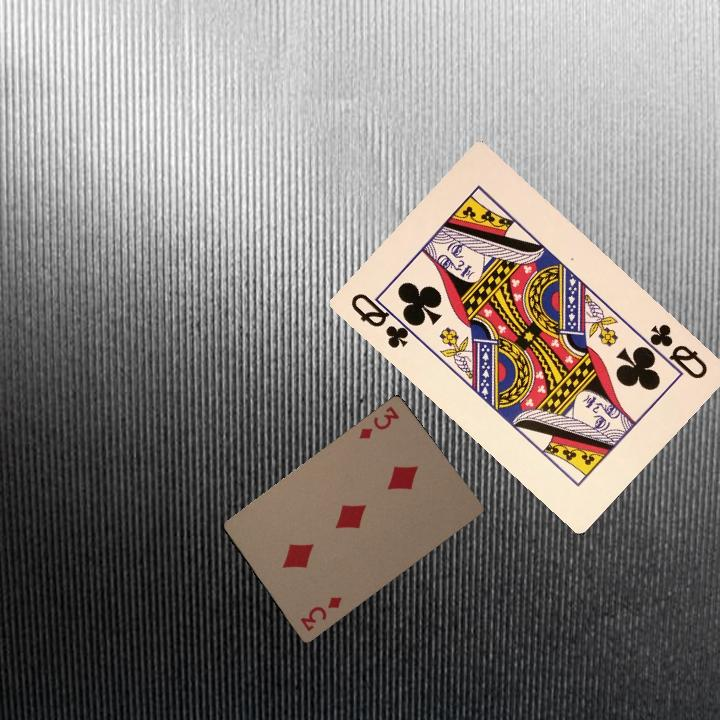3d: (296, 591, 345, 634), (355, 402, 402, 442)
Qc: (346, 289, 422, 351), (637, 319, 710, 382)
